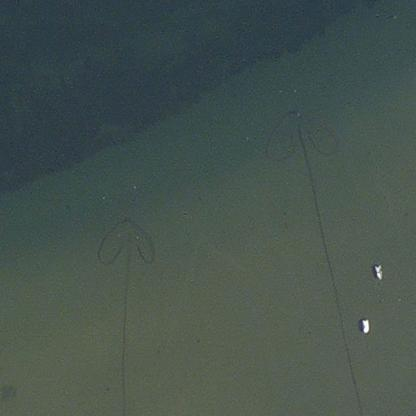ship: (367, 258, 387, 284), (354, 314, 373, 336)
